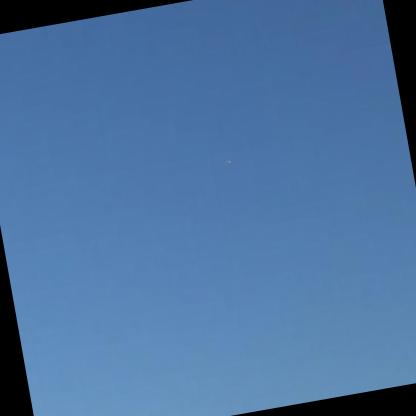plane: (223, 155, 238, 168)
